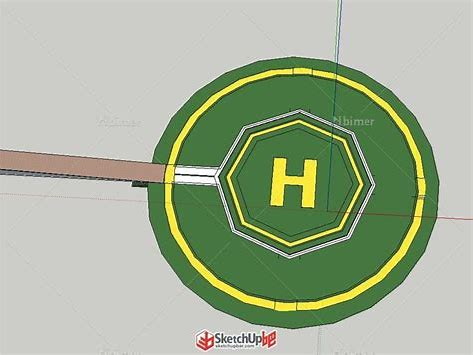H: (269, 157, 318, 208)
